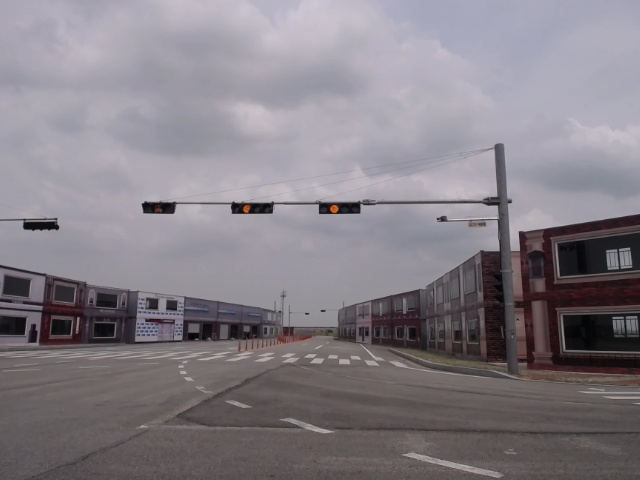orange_4: (316, 200, 363, 217), (230, 200, 274, 217)
